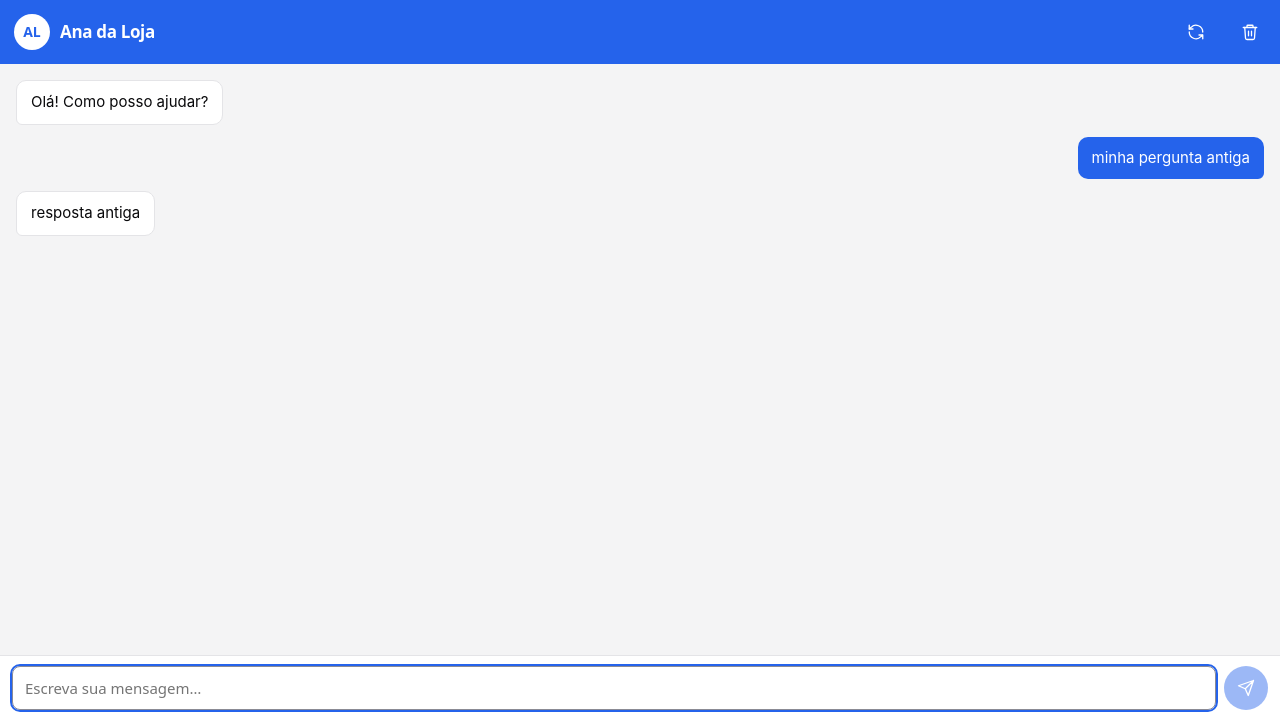
Test: Apagar minha conversa (integração com o componente real) › cancelar fecha a confirmação e mantém a conversa
Click the button named "Apagar minha conversa". click: (1250,32)
box: [1228,10,1272,54]
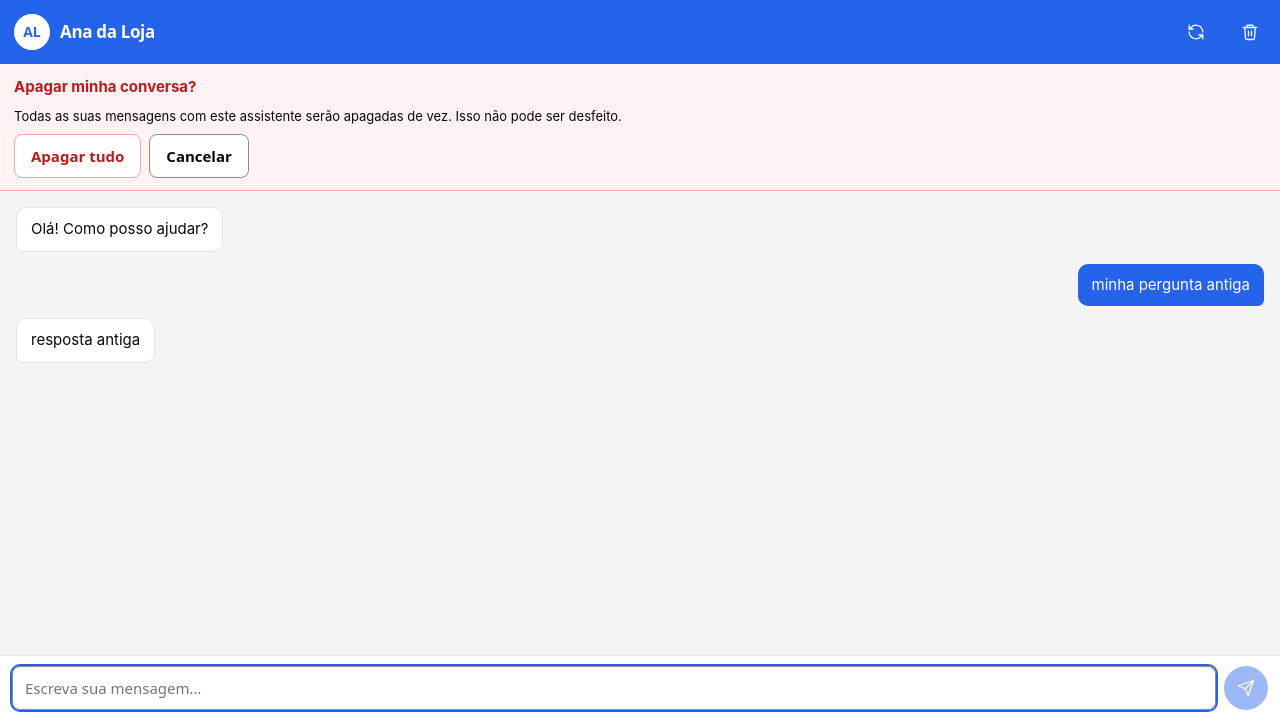
Click the button "Cancelar". click: (199,156)
box: [149,134,249,178]
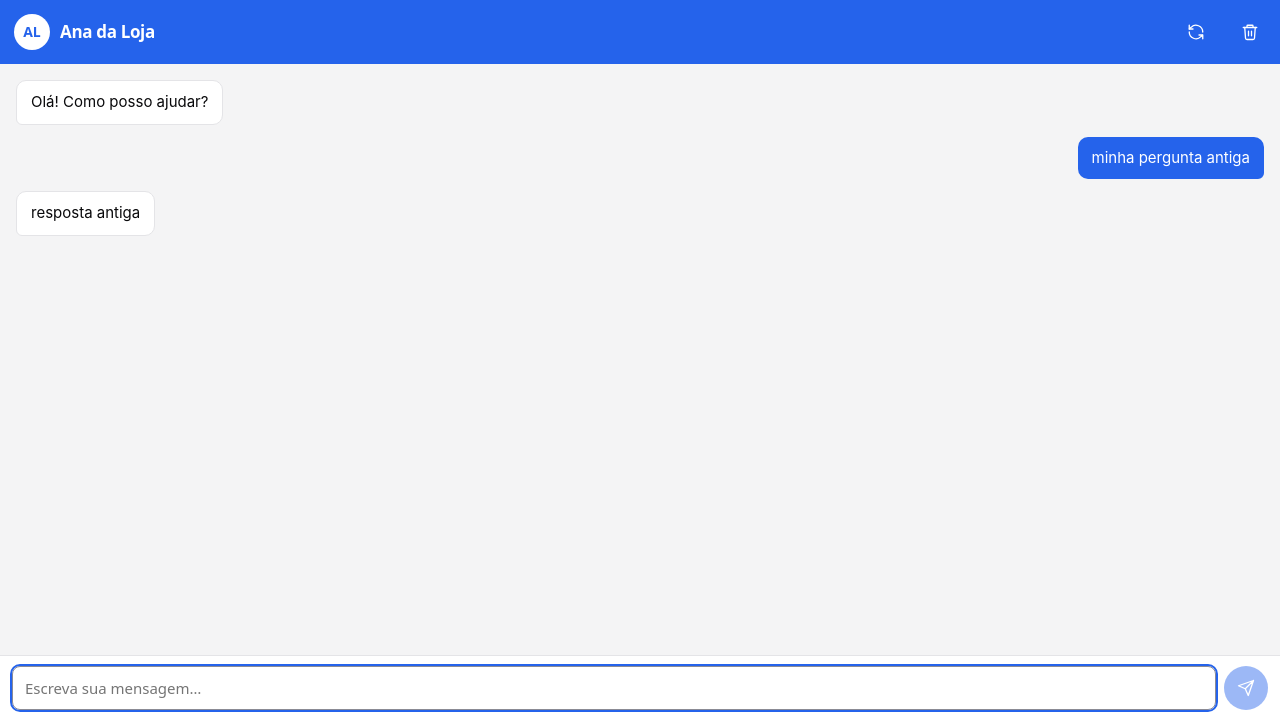
Expected: the text "minha pergunta antiga" is shown, [1092,146,1250,169]
Result: the dialog is gone
